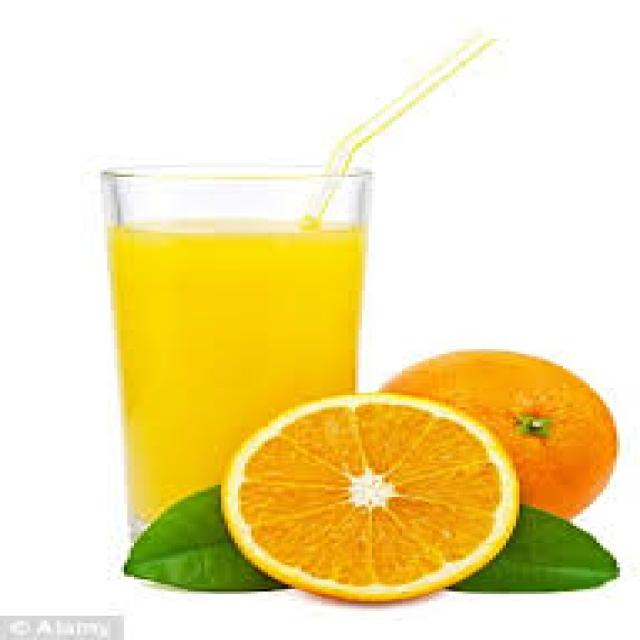Organik: (236, 397, 510, 608), (400, 352, 606, 508)
